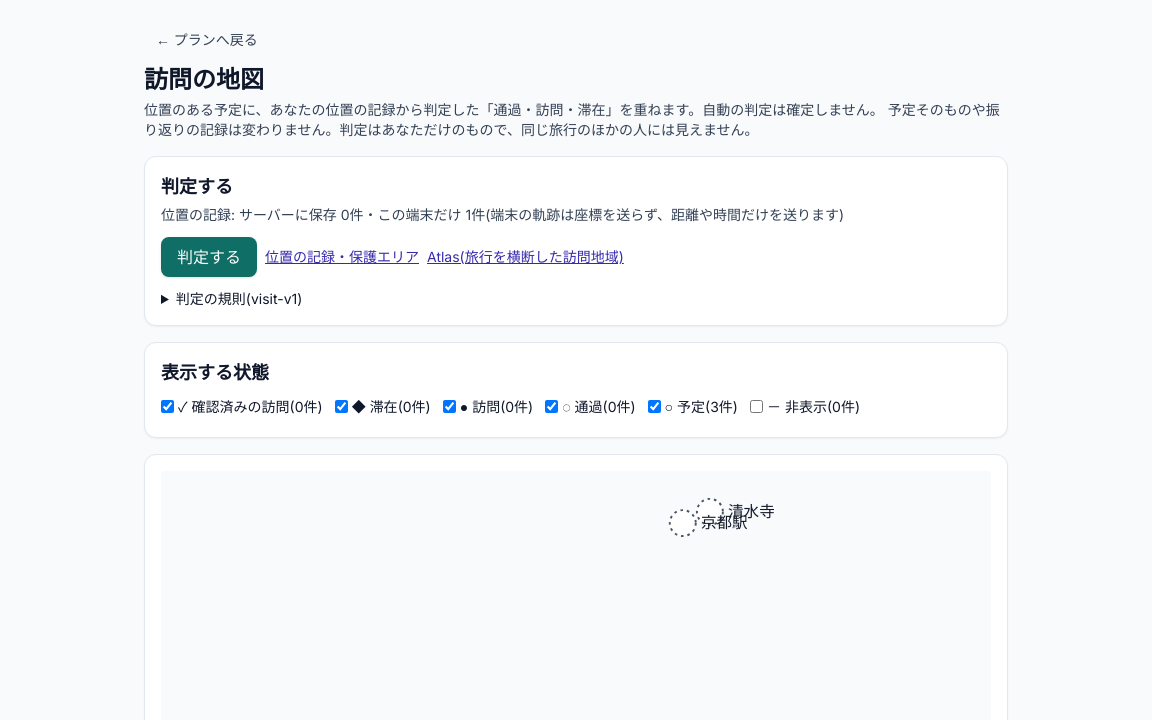
Test case: VisitsPage (Gate V2) › この端末だけの軌跡は、予定の場所ごとの数値だけを送る(座標は送らない)
This screenshot has width=1152, height=720.
Click the button "判定する": (209, 257) [161,237,257,277]
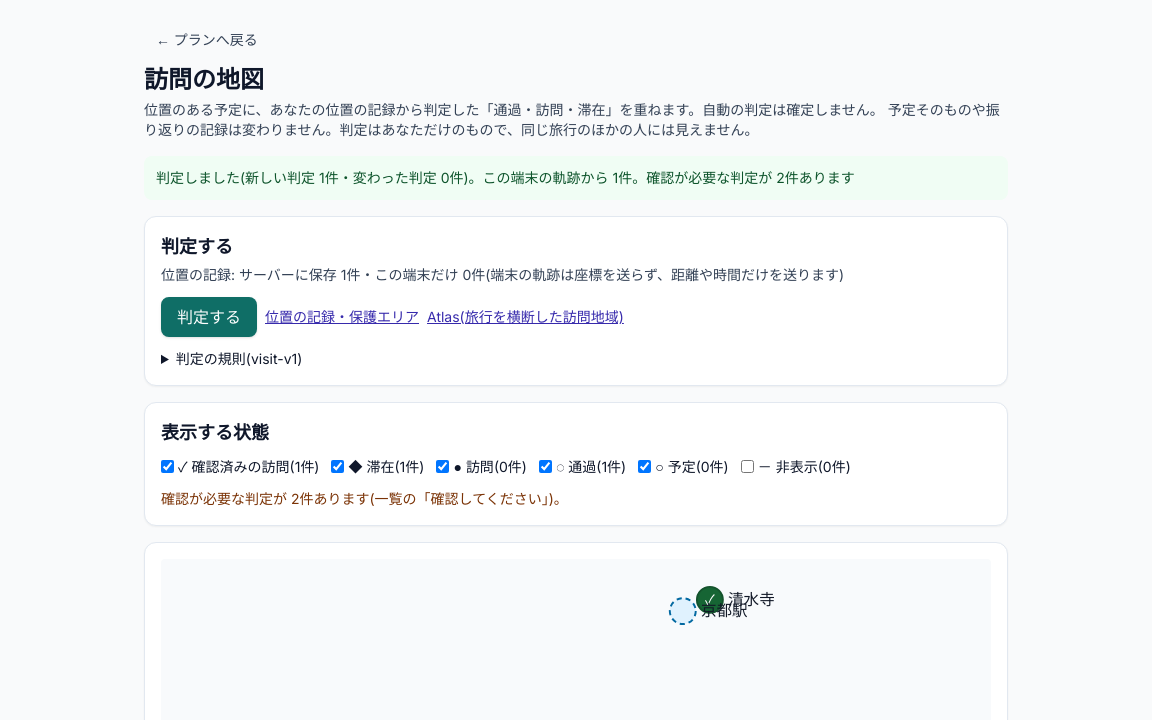
Check: the message shows "この端末の軌跡から 1件", box [156,169,855,186]
